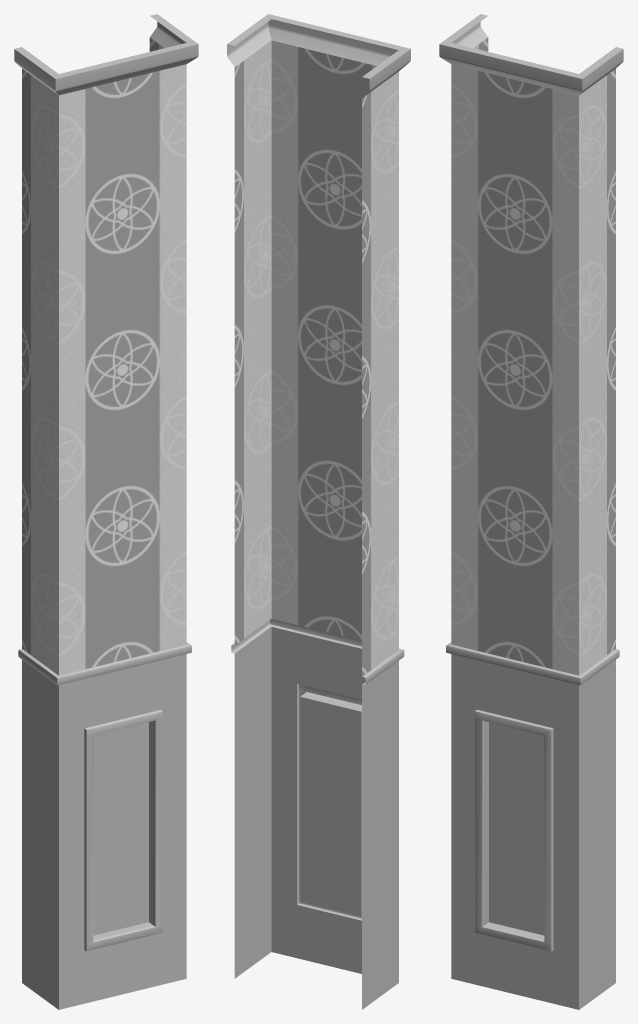
Rendered from WallNiche03_50x25cm.FBX.
3 renders of one model, left to right at view 1: azimuth 30°, elevation 25°; view 2: azimuth 150°, elevation 25°; view 3: azimuth 330°, elevation 25°, orthographic.
Visible parts, largest first — view 1: WallNiche03_50x25cm; view 2: WallNiche03_50x25cm; view 3: WallNiche03_50x25cm.
Part boxes in pixels (bbox=[...]): WallNiche03_50x25cm: bbox=[14, 14, 198, 1009]; WallNiche03_50x25cm: bbox=[227, 14, 410, 1009]; WallNiche03_50x25cm: bbox=[439, 14, 623, 1009].
Size of the model in its own units: 560 by 3500 by 280.
